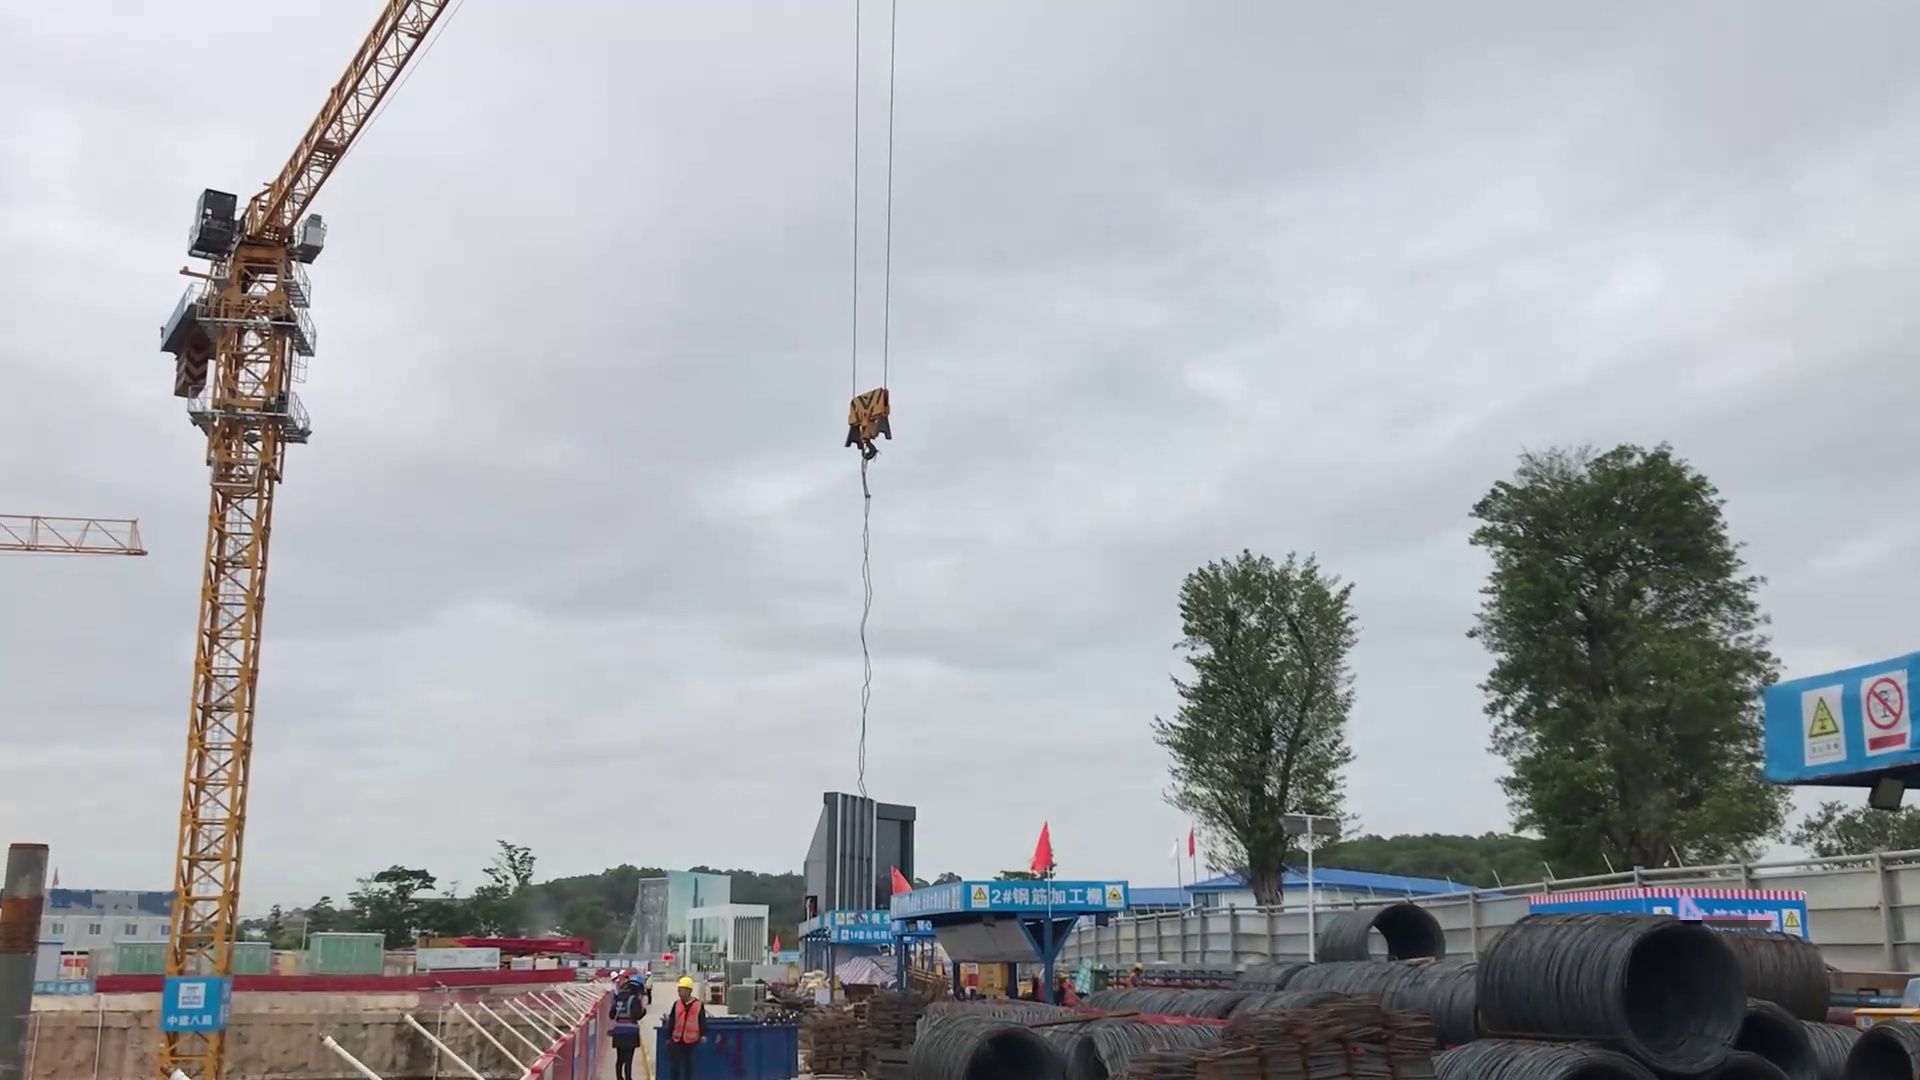helmet: (676, 975, 695, 991), (629, 977, 646, 989)
hook: (840, 382, 900, 472)
hopper: (698, 1023, 803, 1080)
person: (661, 975, 711, 1080), (609, 973, 641, 1080)
rebar: (1141, 989, 1425, 1080)
slogan: (1784, 661, 1915, 790), (896, 870, 1138, 923), (811, 916, 928, 953)
vest: (668, 992, 704, 1046), (612, 996, 641, 1042)
